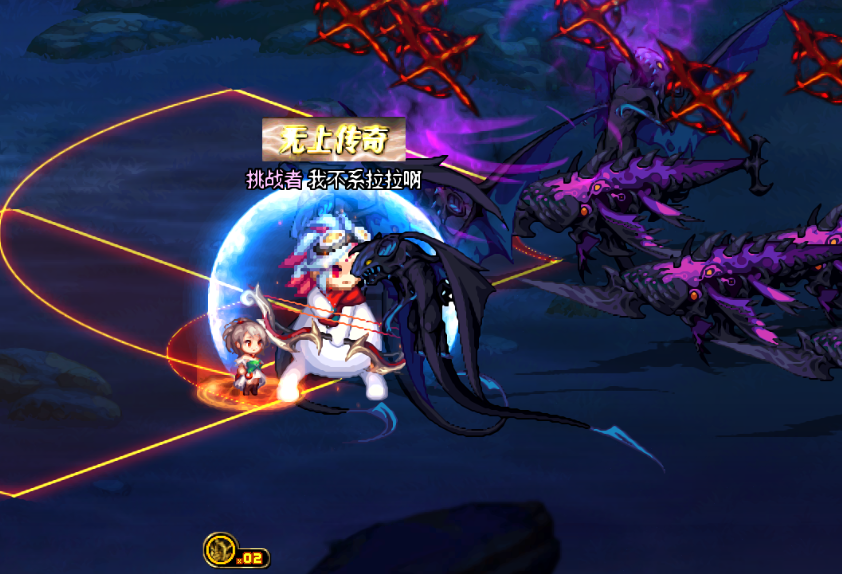role: (260, 116, 406, 161)
